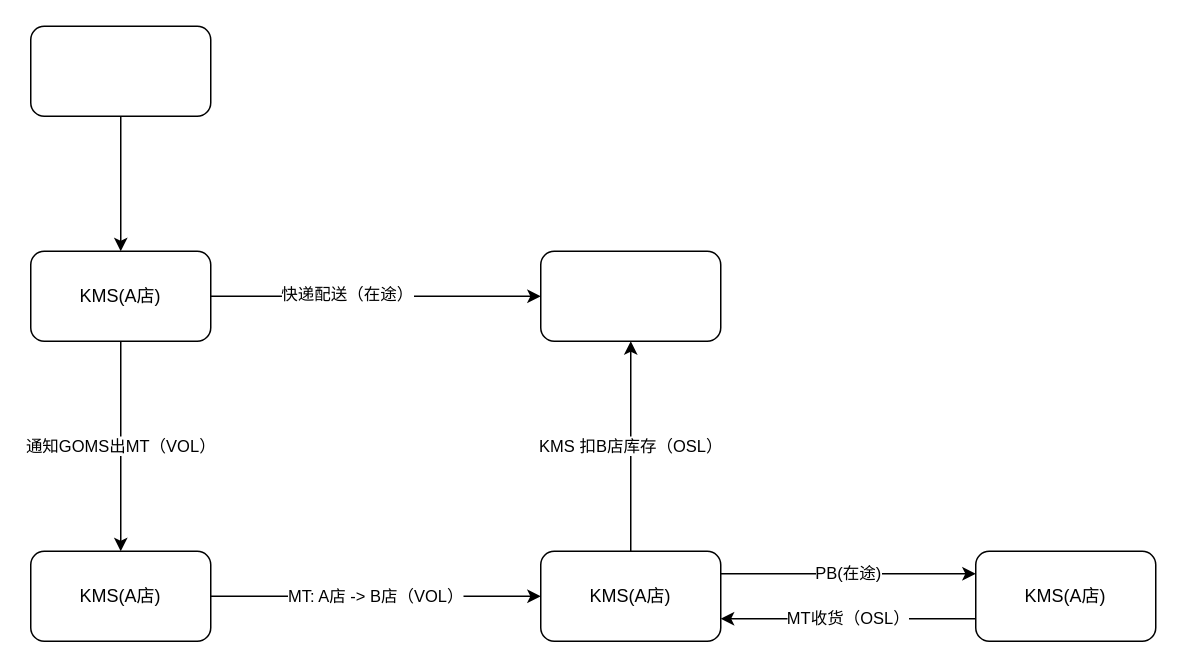
This 1182x668 diagram has some shape labels left out. The box of each missing label's shape, as (x1, y1, x2, y2) in pixels:
KMS(B店): (539, 250, 721, 341)
VMI: (29, 25, 211, 116)
